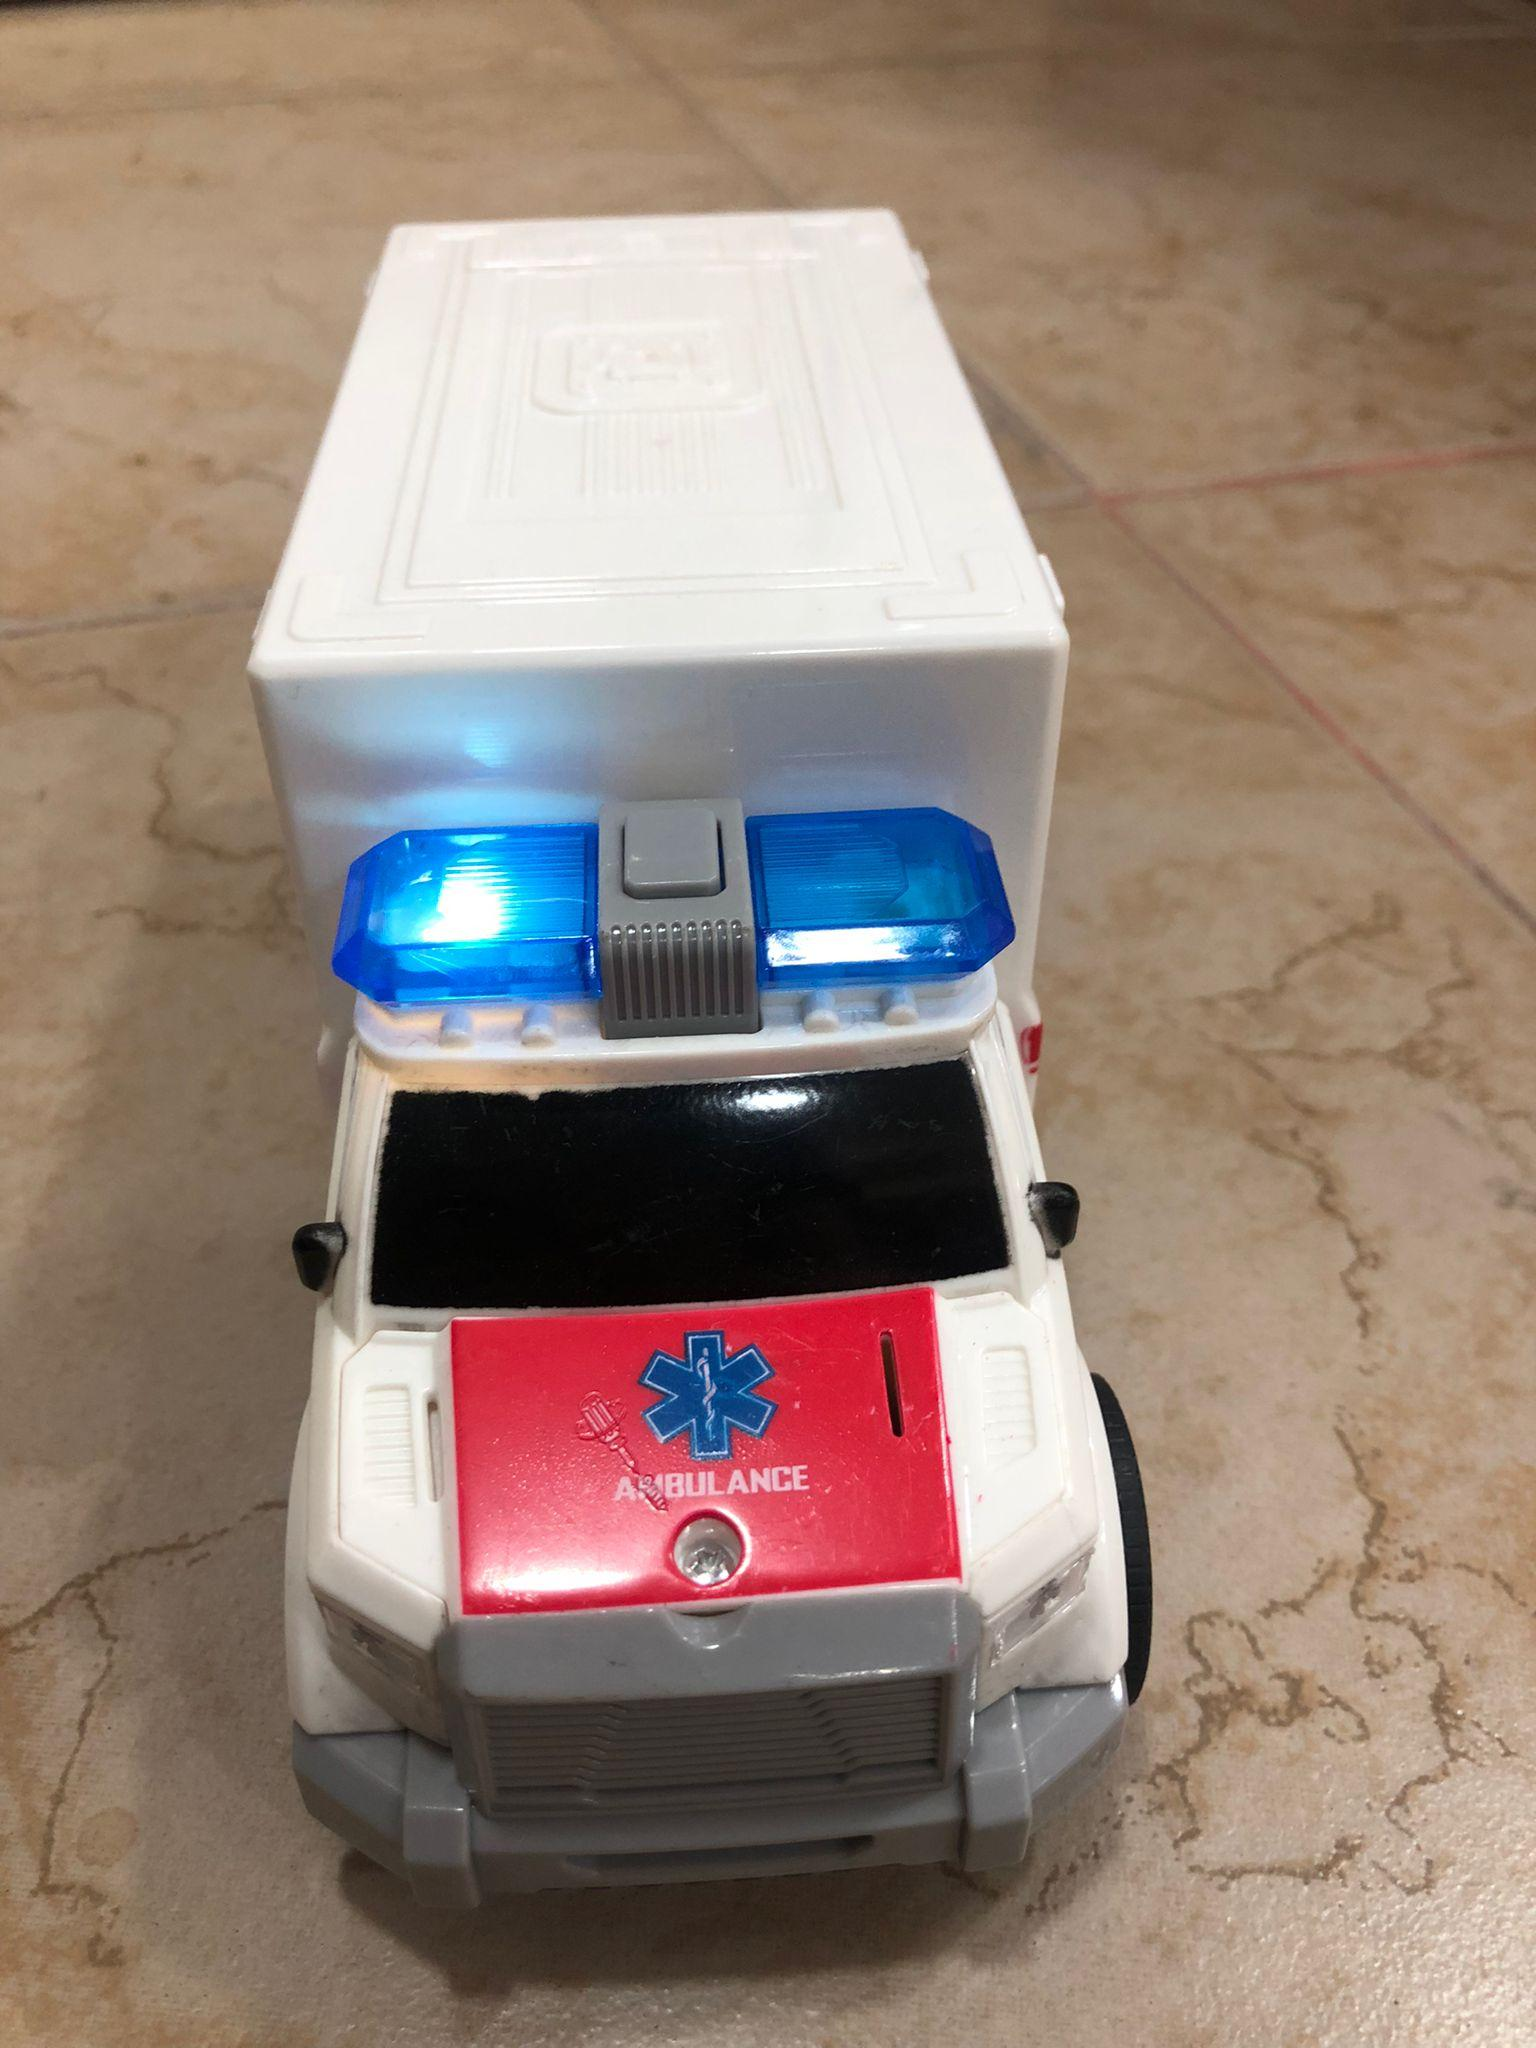ambulance_on: (250, 211, 1150, 1935)
